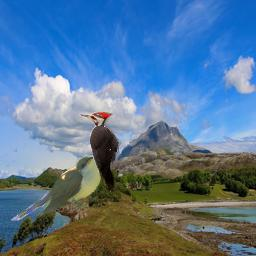Cuckoo: (10, 156, 101, 221)
Woodpecker: (78, 112, 121, 193)
